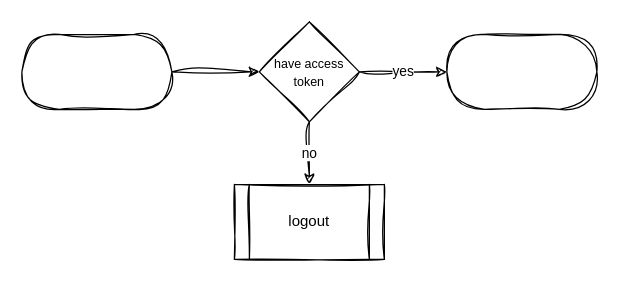
The diagram is 619 pixels wide and 281 high, and some of its shapes have lost their labels. The shapes that lost their labels are listed below. From the top down, each one's centre as x and y in pixels, then its label:
(96,71): start
(521,71): end
